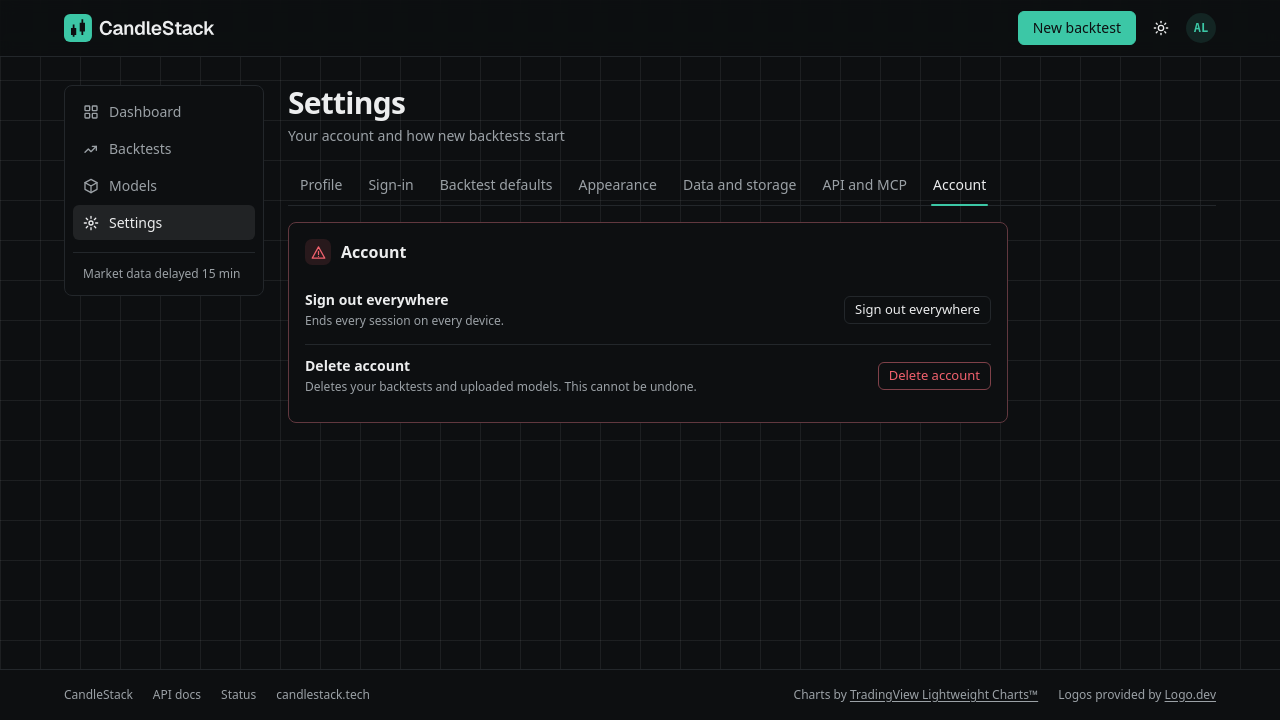
Test case: Account › asks before deleting the account; Cancel keeps it
Click the button "Delete account".
click(934, 376)  # box [878, 362, 991, 390]
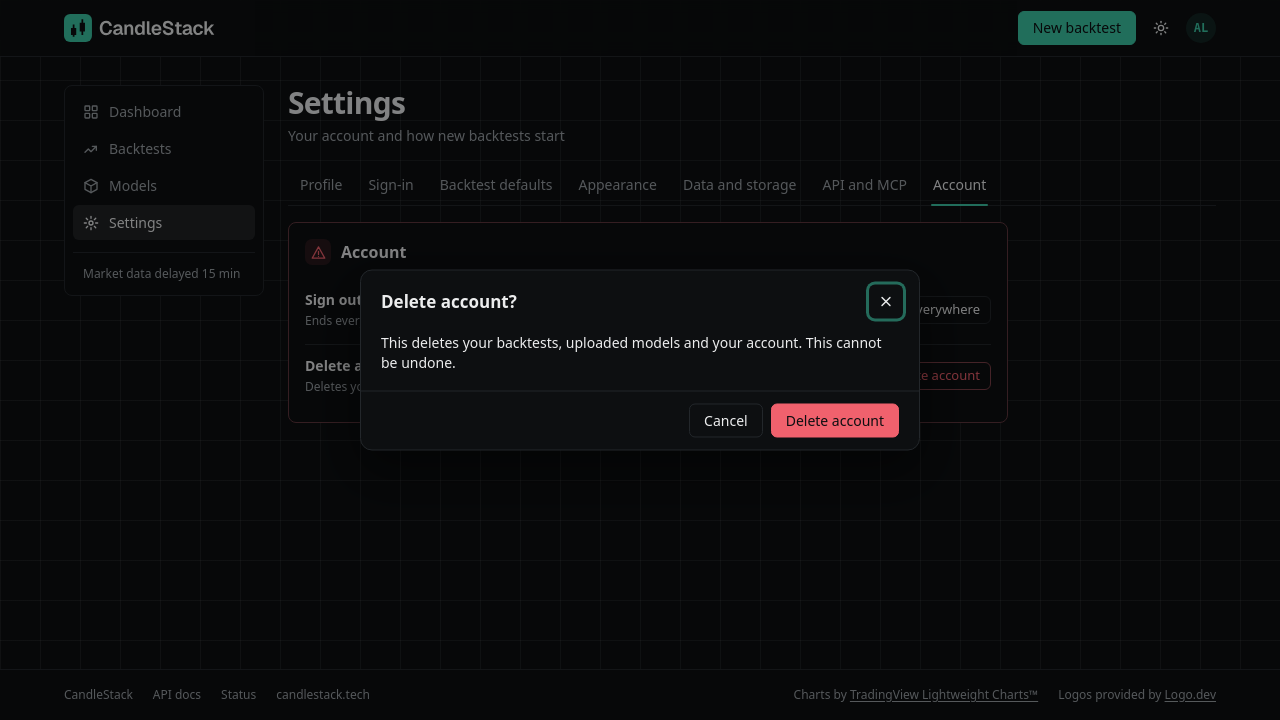
Now the text "This deletes your backtests, uploaded models and your account. This cannot be undone." is shown, box [381, 332, 882, 372]
Click the button "Cancel".
click(726, 420)  # box [689, 404, 763, 438]
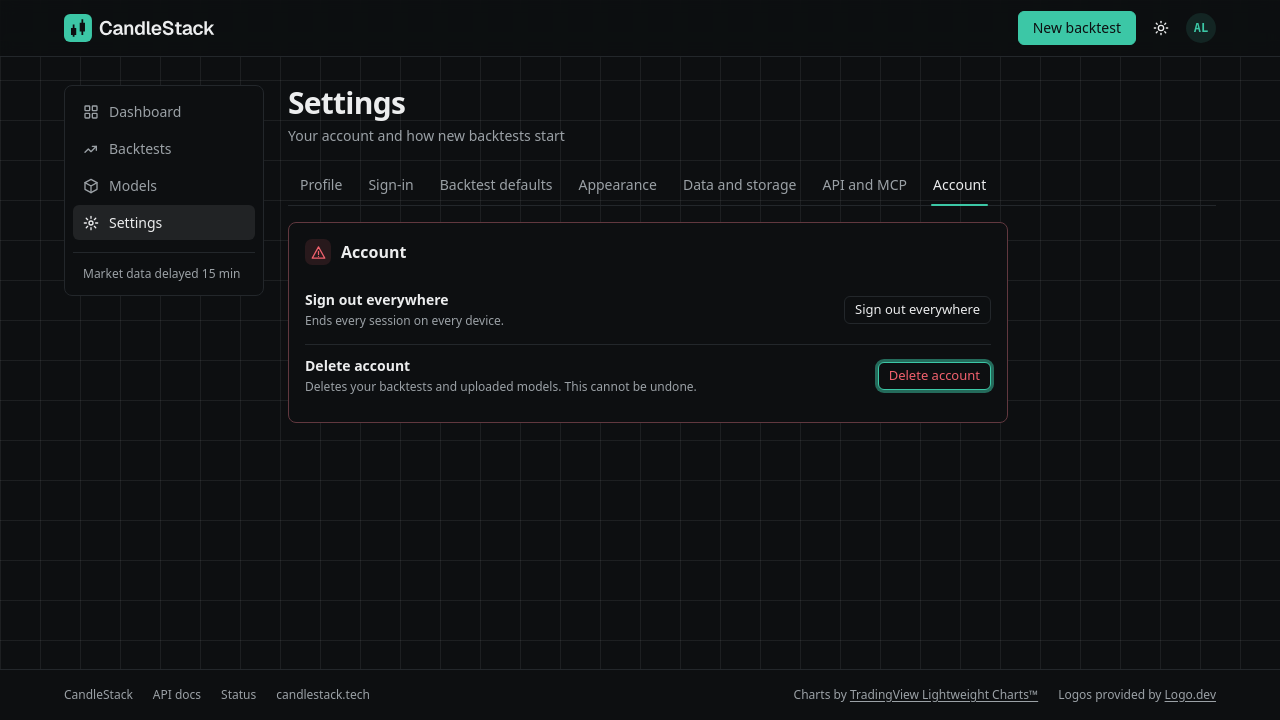
Now the dialog is gone
